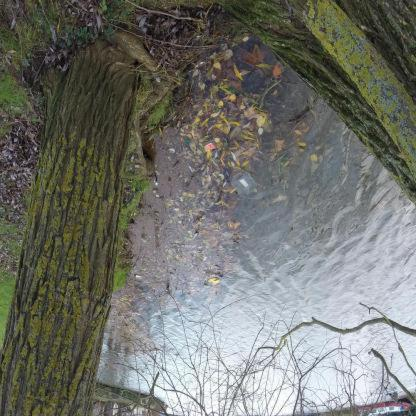Bottle: (186, 140, 190, 144)
Plastic container: (230, 173, 256, 197)
Unlabeled litter: (205, 143, 216, 152), (141, 235, 148, 243), (134, 274, 142, 277)
